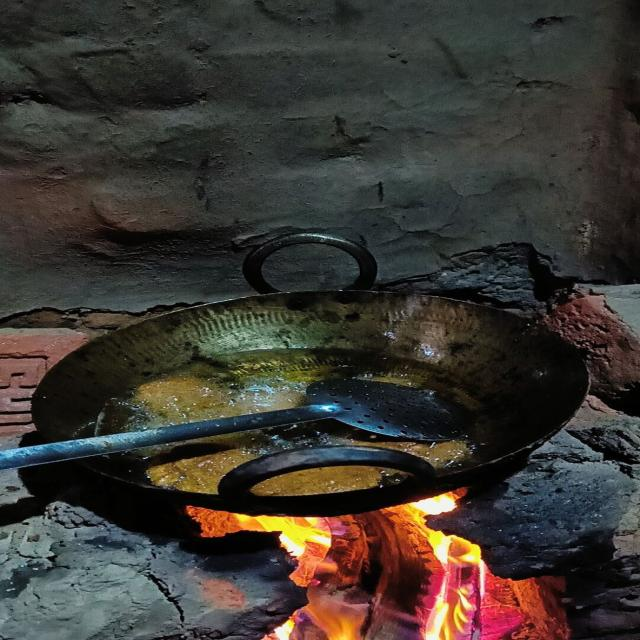fire: (230, 515, 370, 640), (404, 489, 519, 640)
